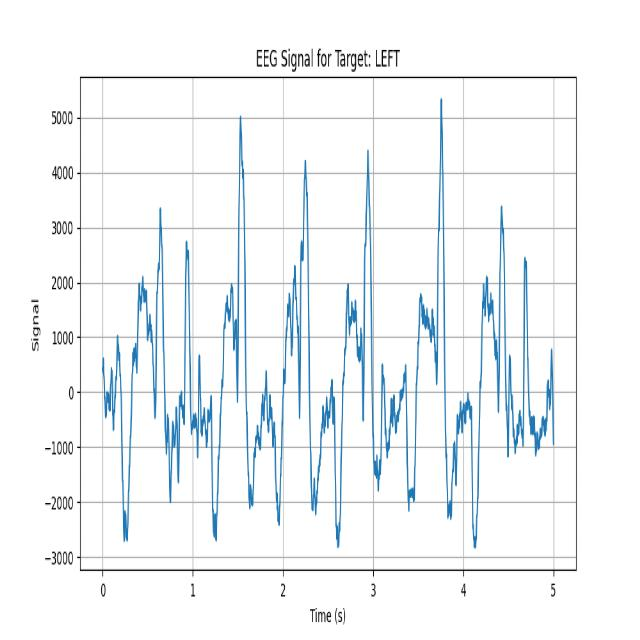LEFT: (388, 93, 463, 551), (223, 118, 285, 546), (113, 170, 175, 545), (332, 116, 384, 552), (283, 120, 332, 551), (463, 191, 521, 551), (174, 169, 225, 546)
